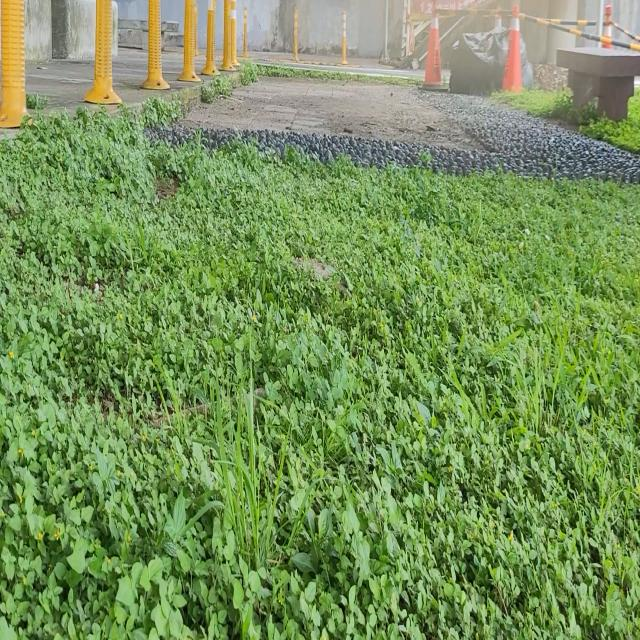grass: (0, 109, 640, 639)
rocks: (145, 89, 640, 183)
white-sand: (182, 79, 470, 146)
